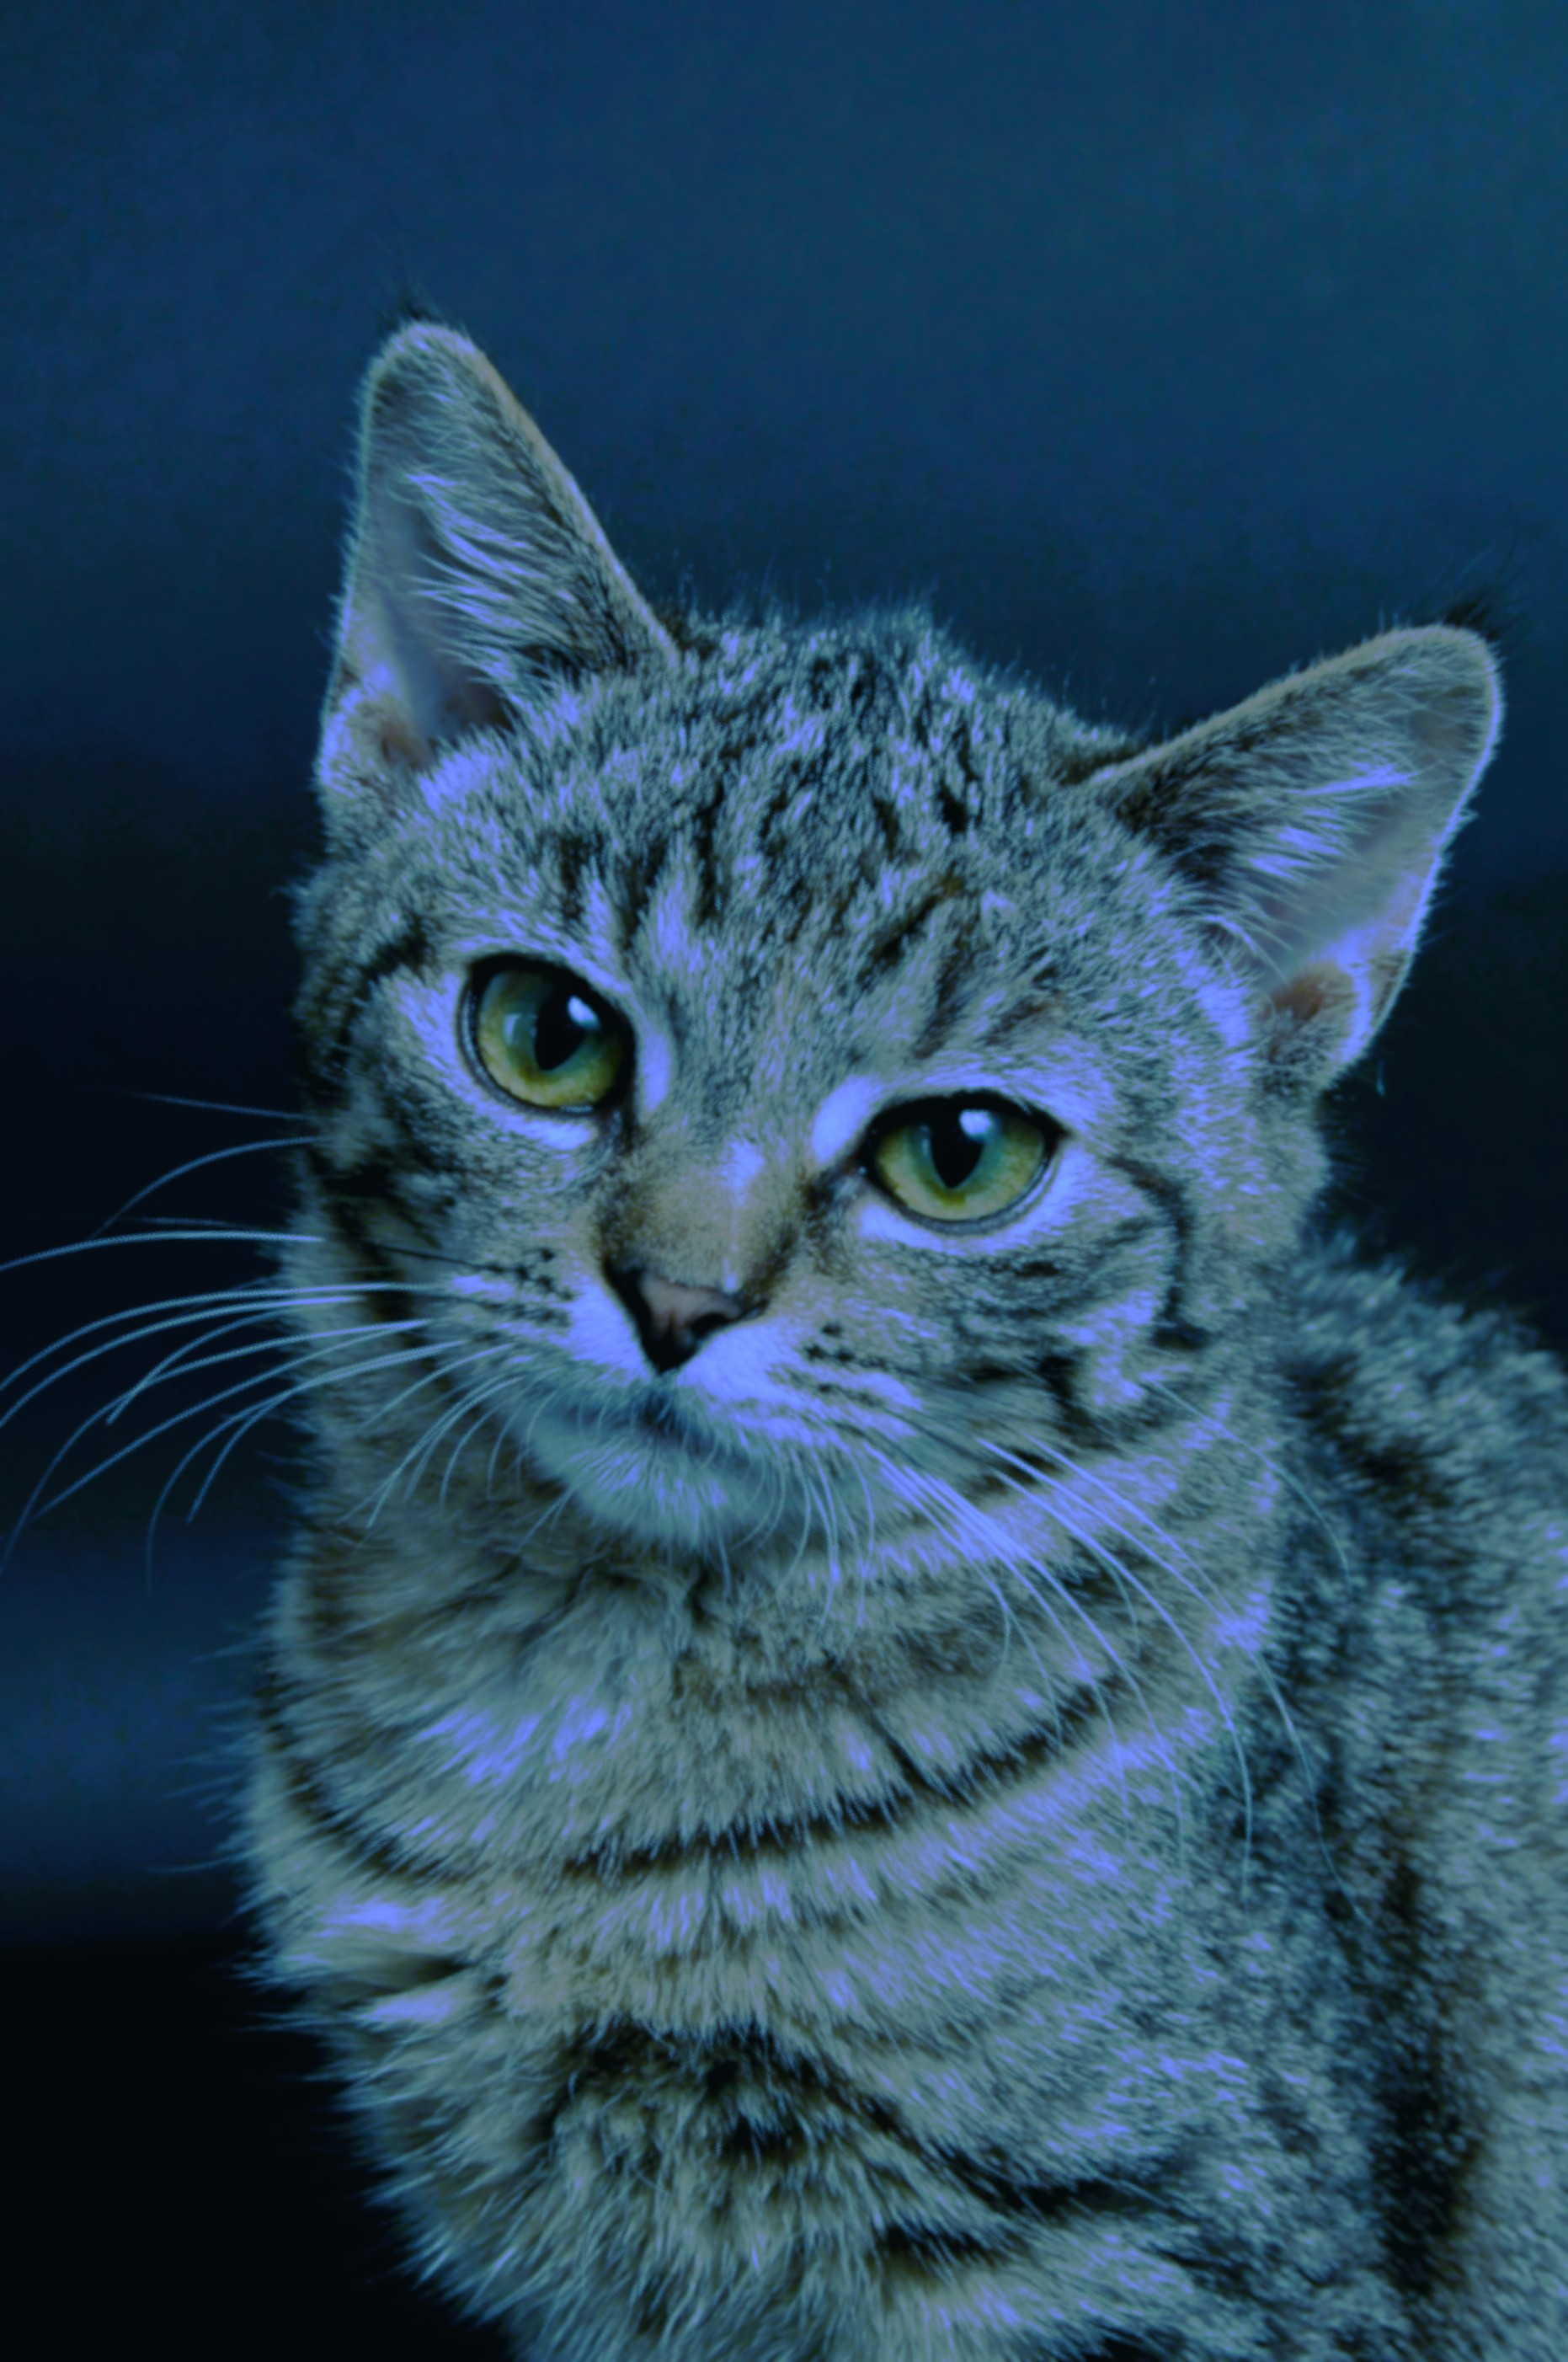cat: (189, 311, 1568, 2360)
